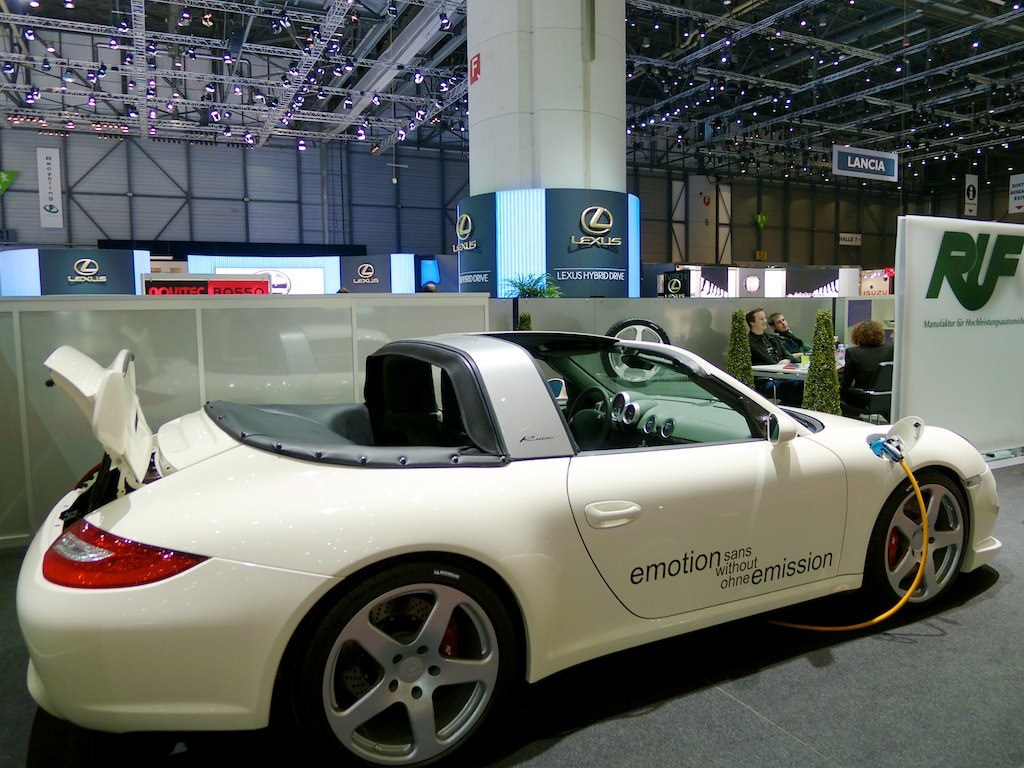person: (839, 318, 892, 421)
